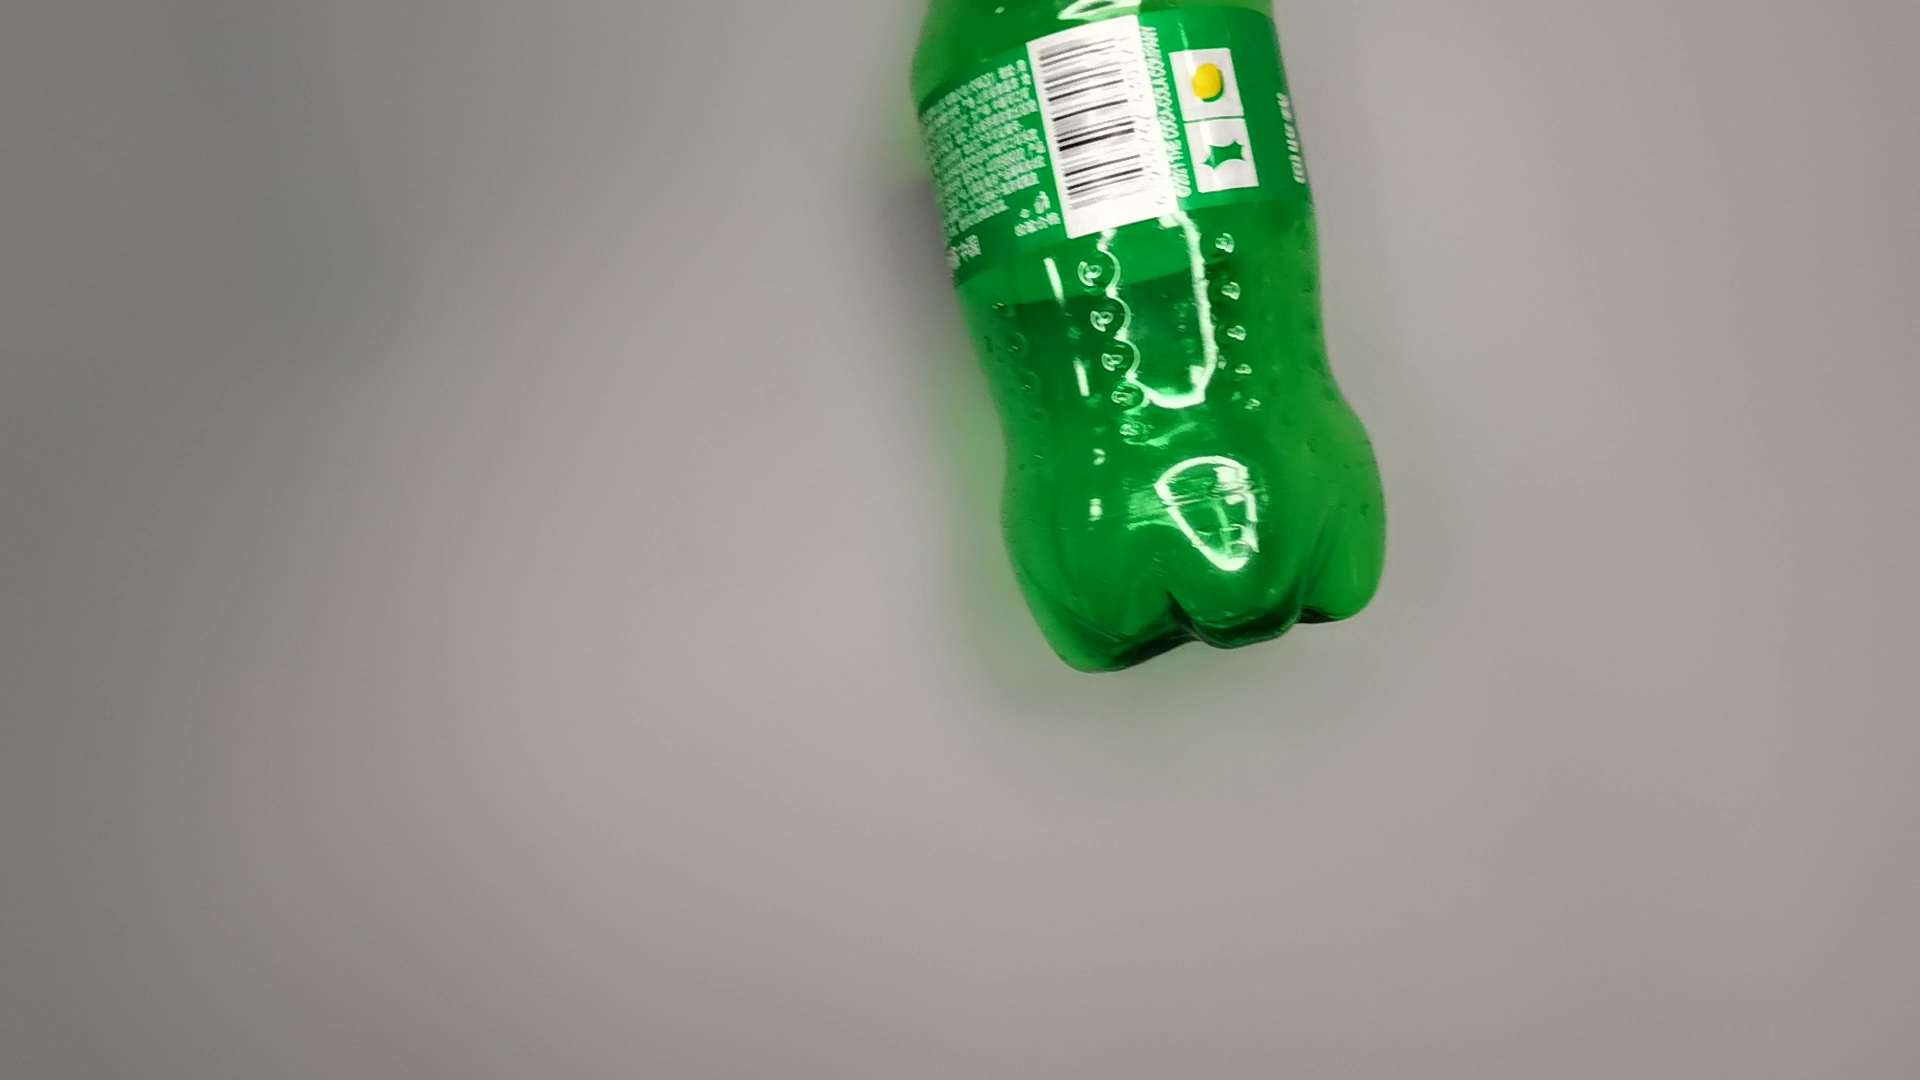bottle: (905, 1, 1399, 687)
